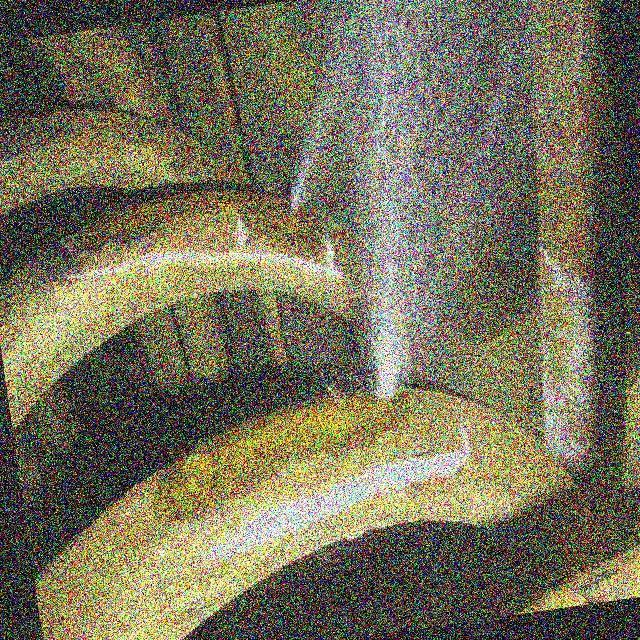pipe burst: (364, 0, 531, 410), (285, 0, 352, 218)
